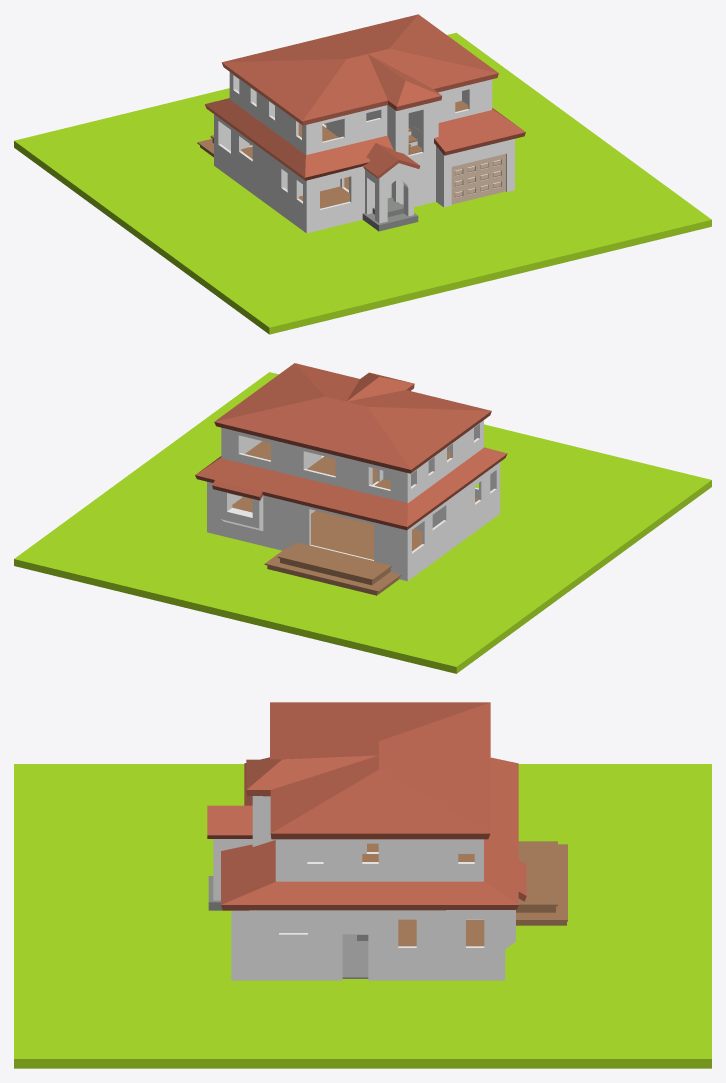
The model's file is HouseTestFile.glb.
The picture shows the model from 3 angles, top to bottom: view 1: azimuth 30°, elevation 25°; view 2: azimuth 150°, elevation 25°; view 3: azimuth 270°, elevation 25°; orthographic projection. The views are drawn at different scales.
Visible parts, largest first — view 1: Ground, Walls, Upper Roof Base, Lower Roof Base, Garage Door, Porch Structure, Porch Roof, Front Steps, Floor; view 2: Ground, Walls, Upper Roof Base, Lower Roof Base, Floor, Backyard Deck.002, Window Extension, Backyard Deck, Backyard Deck.001, Floor 2; view 3: Ground, Upper Roof Base, Walls, Lower Roof Base, Backyard Deck.002, Porch Roof, Backyard Deck.001, Walls.001, Floor, Porch Structure.
Boxes of the visible parts, box(x1,y1,x2,y2) form: Ground: box(14, 32, 711, 334); Walls: box(214, 72, 514, 233); Upper Roof Base: box(221, 14, 498, 125); Lower Roof Base: box(205, 98, 525, 180); Garage Door: box(451, 154, 505, 204); Porch Structure: box(365, 163, 413, 223); Porch Roof: box(363, 143, 420, 178); Front Steps: box(362, 197, 418, 231); Floor: box(241, 146, 349, 208); Ground: box(14, 372, 711, 673); Walls: box(207, 420, 500, 581); Upper Roof Base: box(214, 363, 491, 473); Lower Roof Base: box(195, 447, 507, 530); Floor: box(232, 497, 478, 559); Backyard Deck.002: box(278, 542, 391, 580); Window Extension: box(220, 491, 263, 530); Backyard Deck: box(267, 558, 399, 595); Backyard Deck.001: box(264, 547, 401, 592); Floor 2: box(245, 441, 450, 489); Ground: box(14, 764, 711, 1068); Upper Roof Base: box(246, 702, 490, 839); Walls: box(231, 796, 505, 980); Lower Roof Base: box(221, 757, 526, 910); Backyard Deck.002: box(518, 841, 557, 906); Porch Roof: box(207, 805, 252, 838); Backyard Deck.001: box(516, 844, 567, 921); Walls.001: box(342, 934, 368, 978); Floor: box(398, 919, 484, 946); Porch Structure: box(213, 839, 252, 900).
Size of the model in its own units: 22.48 by 6.14 by 22.48.
